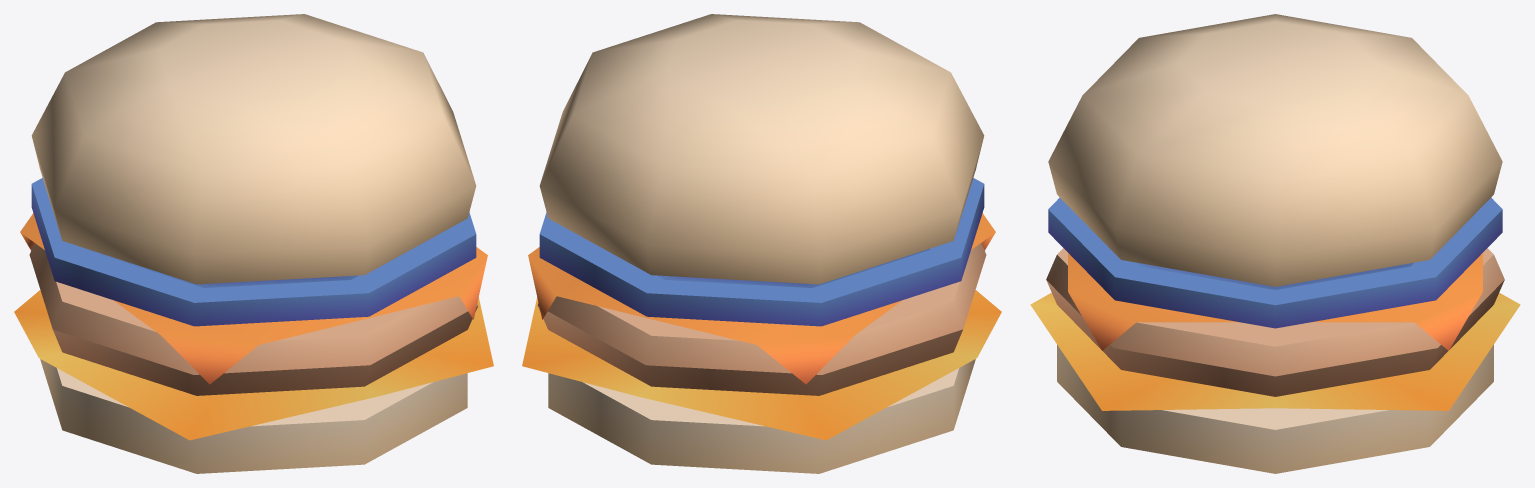
File: burger.glb
3 renders of one model, left to right at view 1: azimuth 30°, elevation 25°; view 2: azimuth 150°, elevation 25°; view 3: azimuth 270°, elevation 25°, orthographic.
Parts seen in each view (by area): view 1: bun-top, patty, bun-bottom, tomato, salad, cheese; view 2: bun-top, patty, bun-bottom, tomato, salad, cheese; view 3: bun-top, patty, tomato, bun-bottom, salad, cheese.
Boxes of the visible parts, x1,y1,x2,y2 form: bun-top: (31,14,476,284); patty: (29,243,478,395); bun-bottom: (40,359,467,473); tomato: (31,178,476,326); salad: (14,290,493,440); cheese: (20,213,487,384); bun-top: (539,14,984,284); patty: (537,243,986,395); bun-bottom: (548,359,975,473); tomato: (539,178,984,326); salad: (522,290,1001,440); cheese: (528,213,995,384); bun-top: (1048,14,1502,286); patty: (1046,248,1504,396); tomato: (1048,197,1502,328); bun-bottom: (1057,344,1493,473); salad: (1030,292,1520,410); cheese: (1068,253,1482,350).
Bounding box in the file's own units: 0.4041 × 0.29 × 0.4041.
1 material, 1 textured.
